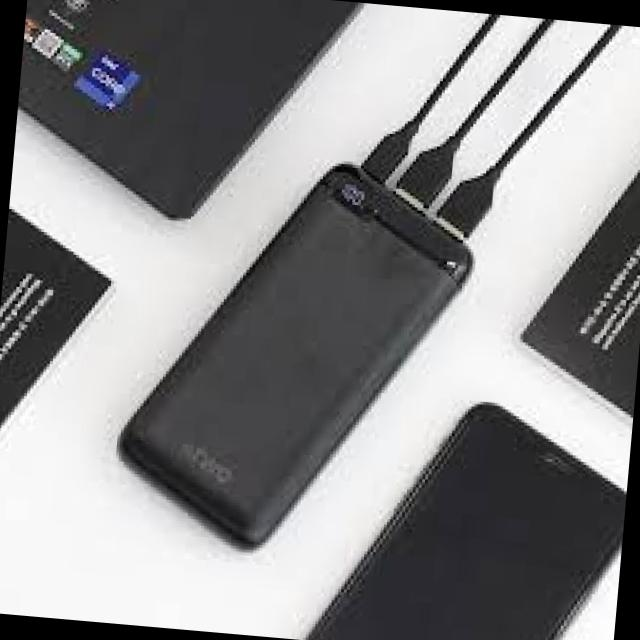portable-charger: (106, 142, 481, 568)
